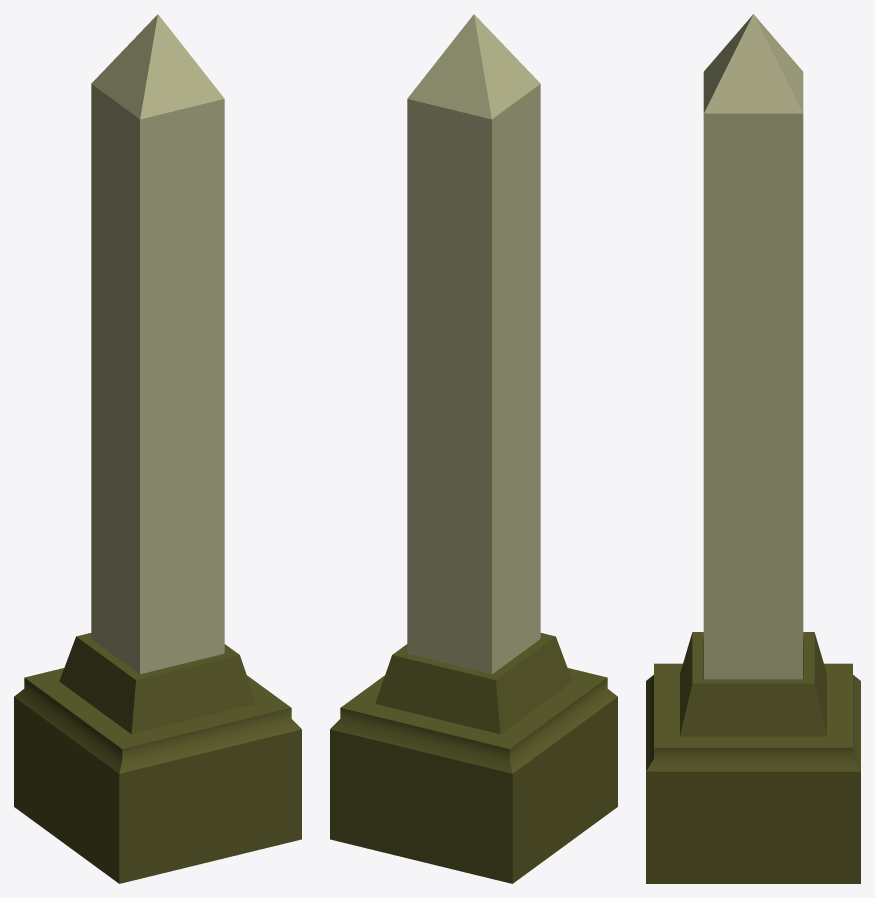
File: Obelisk_LegoPieces_v3.fbx
The picture shows the model from 3 angles, left to right: view 1: azimuth 30°, elevation 25°; view 2: azimuth 150°, elevation 25°; view 3: azimuth 270°, elevation 25°; orthographic projection.
Visible parts, largest first — view 1: Obelisk_stand, Obelisk_piece_midBottom, Obelisk_piece_bottom, Obelisk_piece_top, Obelisk_piece_midTop, Obelisk_piece_justTheTip; view 2: Obelisk_stand, Obelisk_piece_midBottom, Obelisk_piece_bottom, Obelisk_piece_top, Obelisk_piece_midTop, Obelisk_piece_justTheTip; view 3: Obelisk_stand, Obelisk_piece_midBottom, Obelisk_piece_bottom, Obelisk_piece_top, Obelisk_piece_midTop, Obelisk_piece_justTheTip.
Part boxes in pixels (box(x1,y1,x2,y2)): Obelisk_stand: box(14, 633, 301, 883); Obelisk_piece_midBottom: box(91, 352, 224, 537); Obelisk_piece_bottom: box(91, 502, 224, 674); Obelisk_piece_top: box(91, 84, 224, 255); Obelisk_piece_midTop: box(91, 220, 224, 387); Obelisk_piece_justTheTip: box(91, 14, 224, 119); Obelisk_stand: box(330, 633, 617, 883); Obelisk_piece_midBottom: box(407, 352, 540, 537); Obelisk_piece_bottom: box(407, 502, 540, 674); Obelisk_piece_top: box(407, 84, 540, 255); Obelisk_piece_midTop: box(407, 220, 540, 387); Obelisk_piece_justTheTip: box(407, 14, 540, 119); Obelisk_stand: box(646, 632, 860, 883); Obelisk_piece_midBottom: box(703, 387, 803, 539); Obelisk_piece_bottom: box(703, 540, 803, 679); Obelisk_piece_top: box(703, 113, 803, 252); Obelisk_piece_midTop: box(703, 252, 803, 386); Obelisk_piece_justTheTip: box(703, 14, 803, 113).
Bounding box in the file's own units: 4.31 × 18.27 × 4.31.
